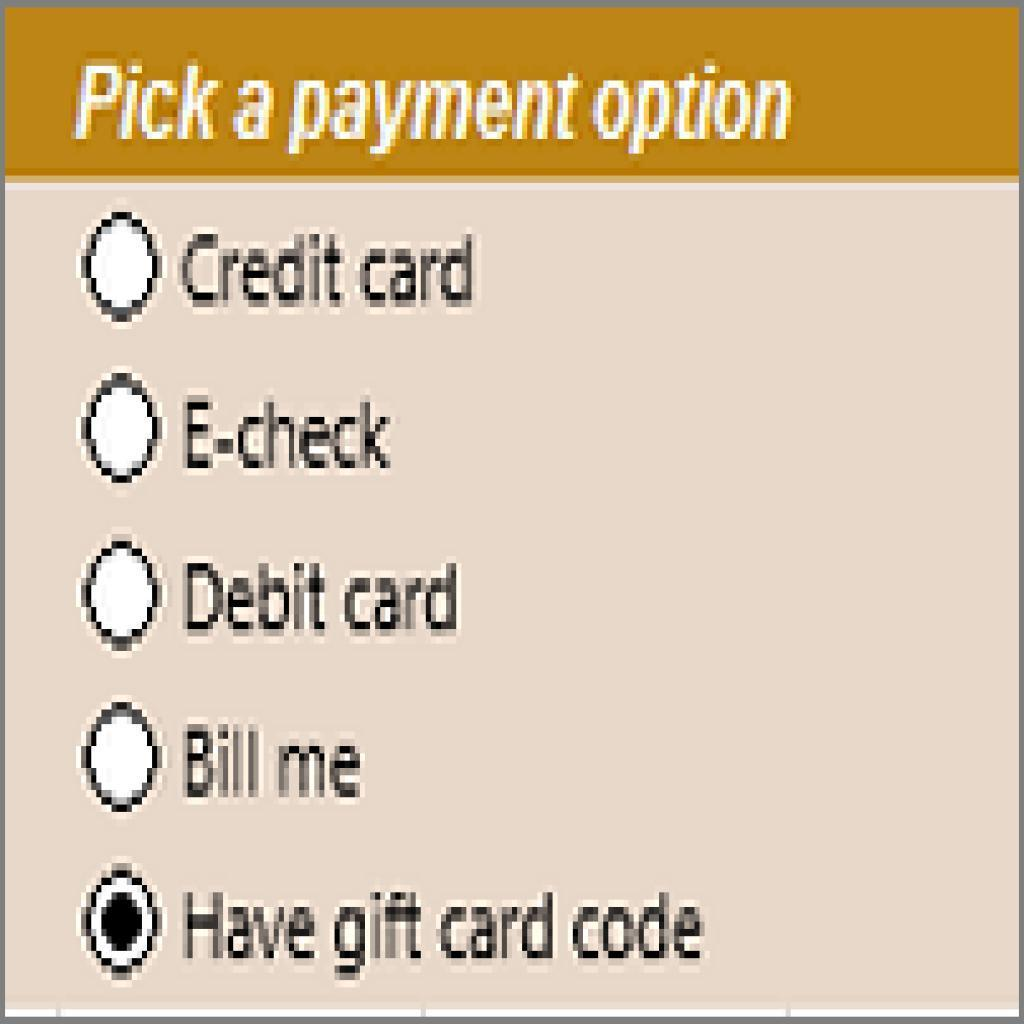label: (71, 54, 794, 159), (181, 887, 708, 983), (175, 228, 483, 315), (182, 555, 464, 639), (180, 388, 395, 475), (181, 715, 366, 807)
radio: (75, 534, 169, 658), (77, 861, 167, 988), (76, 210, 168, 329), (76, 369, 169, 484), (77, 700, 166, 815)
